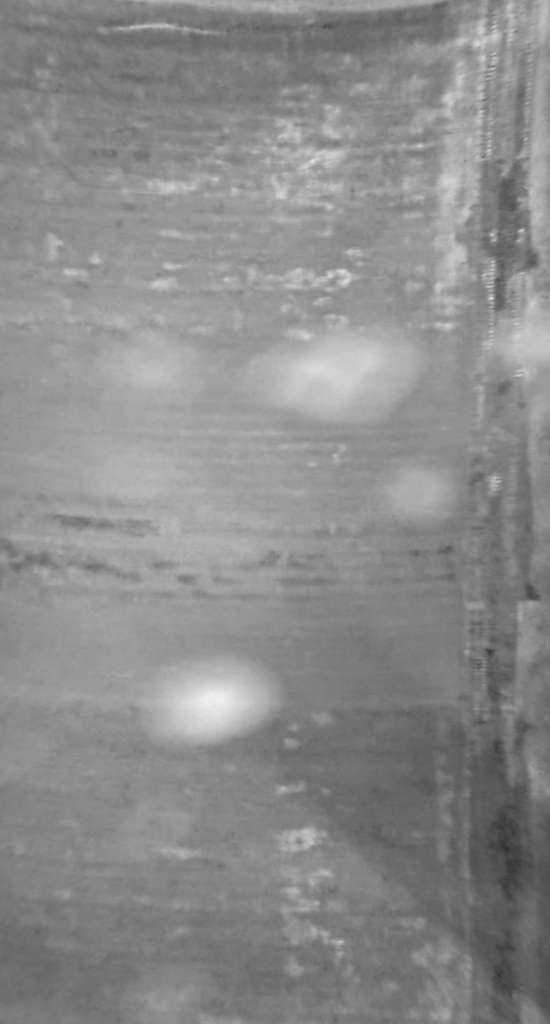splice: (462, 1, 538, 1024)
